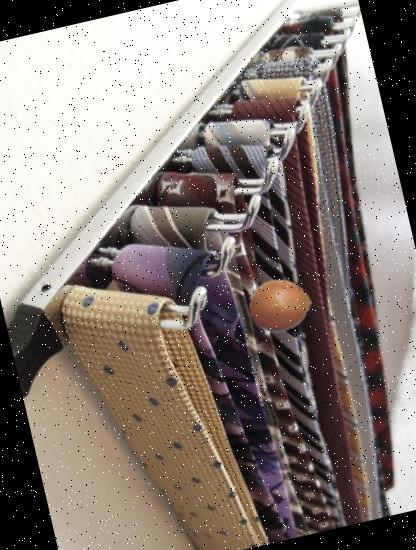Tangelo: (244, 268, 318, 342)
